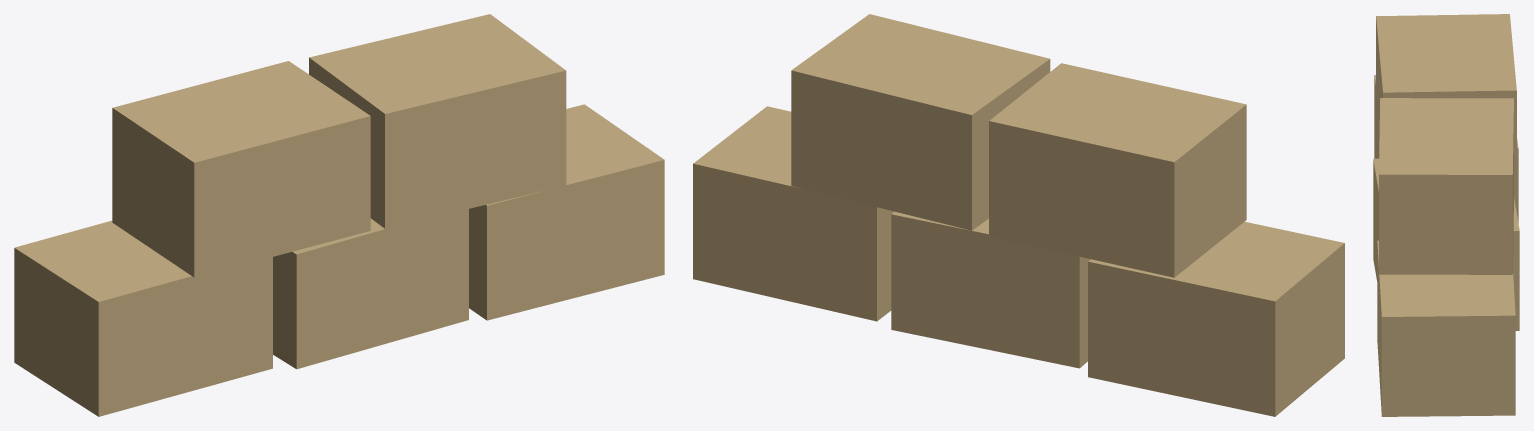
The model's file is sandbags_01.glb.
3 views of the same model, side by side, from view 1: azimuth 30°, elevation 25°; view 2: azimuth 150°, elevation 25°; view 3: azimuth 270°, elevation 25° (orthographic). The views are drawn at different scales.
Parts seen in each view (by area): view 1: sandbags_01; view 2: sandbags_01; view 3: sandbags_01.
Part boxes in pixels (box(x1,y1,x2,y2)): sandbags_01: box(14, 14, 664, 416); sandbags_01: box(693, 14, 1344, 416); sandbags_01: box(1373, 14, 1519, 416).
Size of the model in its own units: 1.47 by 0.56 by 0.3722.
